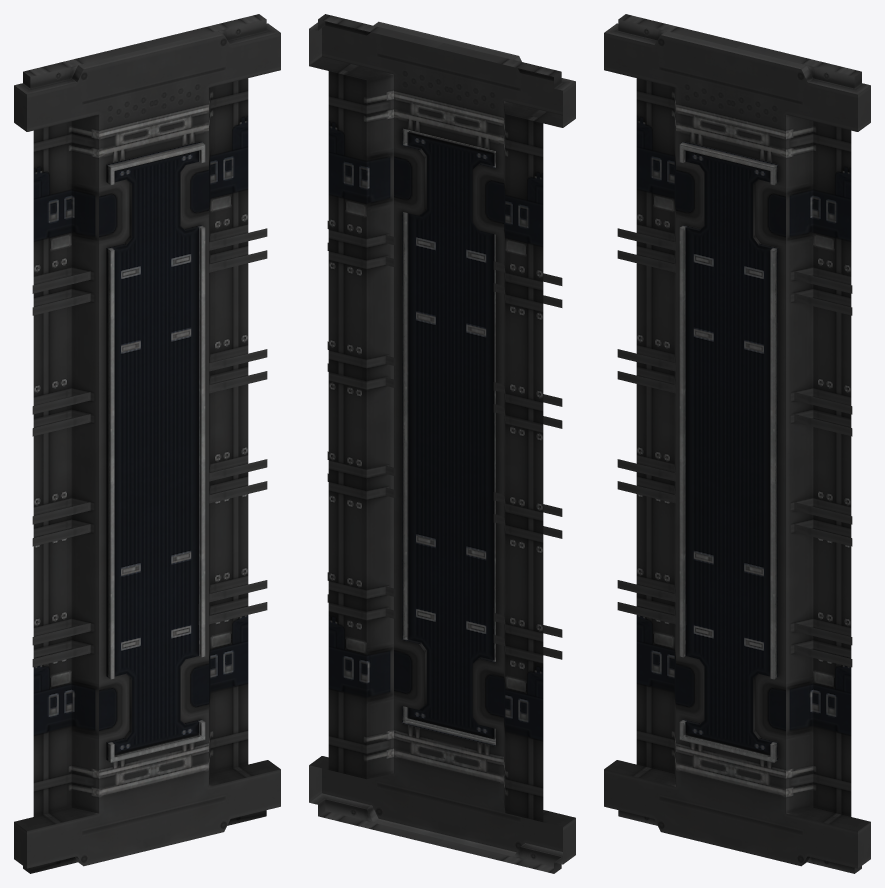
The model's file is Panel_C_1x3_L2.FBX.
3 renders of one model, left to right at view 1: azimuth 30°, elevation 25°; view 2: azimuth 150°, elevation 25°; view 3: azimuth 330°, elevation 25°, orthographic.
Parts seen in each view (by area): view 1: Panel_C_1x3_L2; view 2: Panel_C_1x3_L2; view 3: Panel_C_1x3_L2.
Part boxes in pixels (x1=…): Panel_C_1x3_L2: x1=14, y1=14, x2=280, y2=873; Panel_C_1x3_L2: x1=309, y1=14, x2=575, y2=873; Panel_C_1x3_L2: x1=604, y1=14, x2=870, y2=873.
Size of the model in its own units: 100 by 300 by 11.58.
